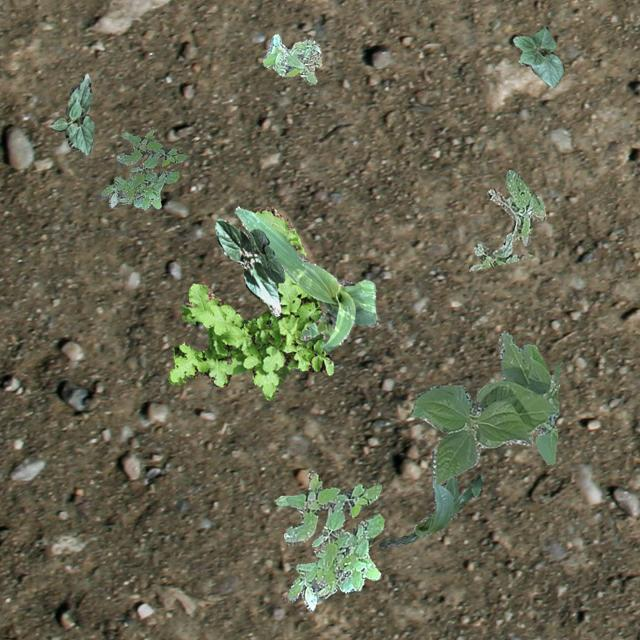crop: (410, 330, 560, 484), (234, 206, 376, 350), (378, 448, 482, 548), (213, 218, 280, 314), (48, 73, 94, 154), (512, 24, 562, 86), (248, 228, 284, 282)
weed: (168, 205, 332, 398), (274, 470, 384, 610), (468, 168, 546, 270), (100, 125, 186, 208), (262, 32, 320, 84)
